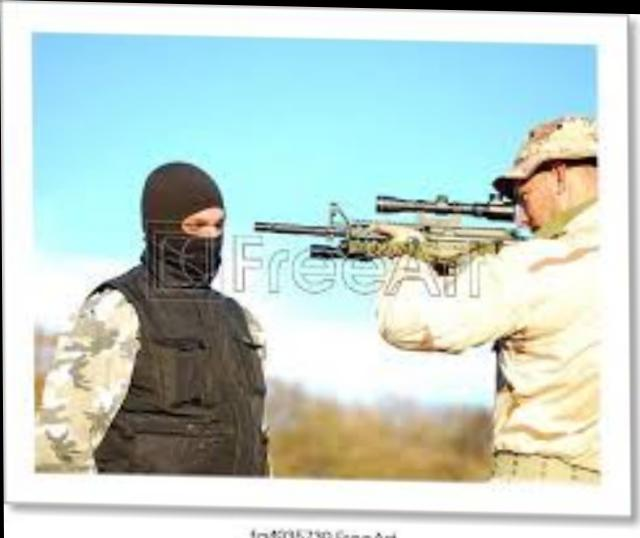other: (404, 104, 596, 467), (65, 169, 264, 474)
